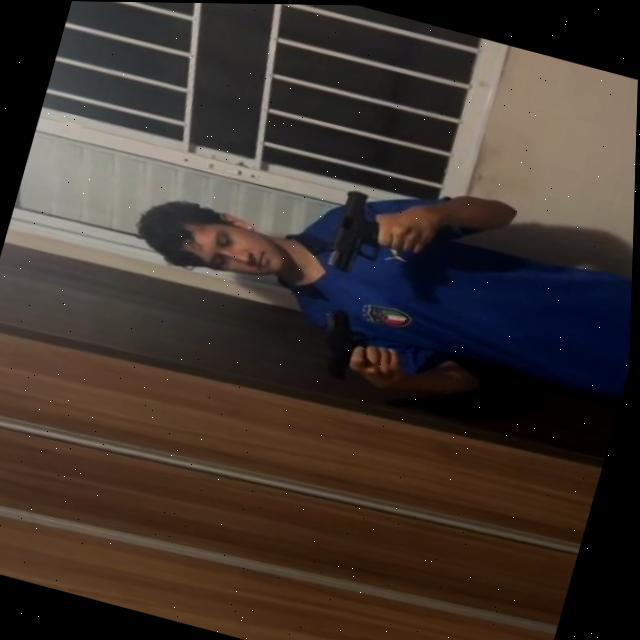gun: (319, 184, 395, 280), (306, 302, 381, 386)
